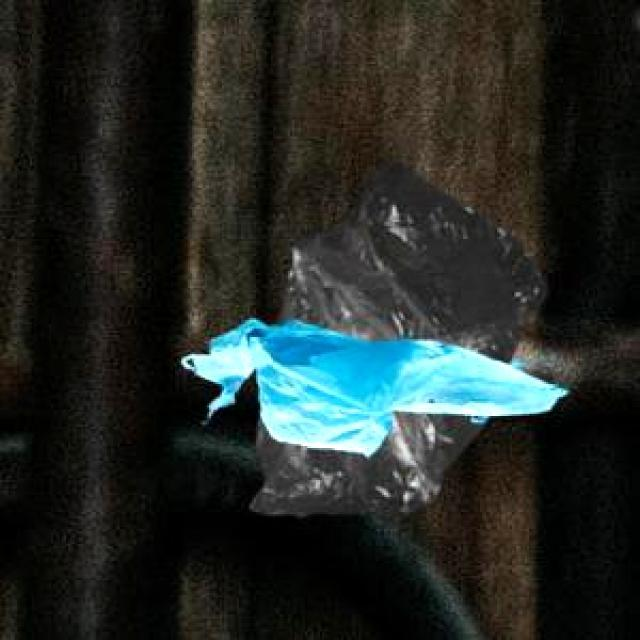Plastic_Bag: (246, 159, 545, 513), (178, 316, 564, 454)
